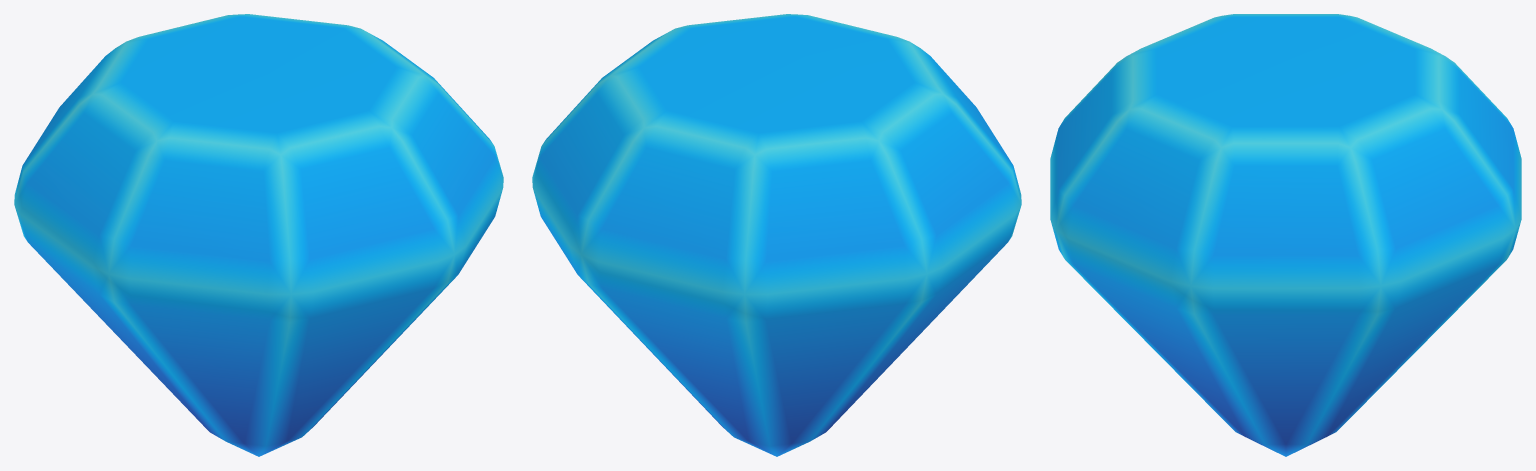
File: diamond_001.glb
The picture shows the model from 3 angles, left to right: view 1: azimuth 30°, elevation 25°; view 2: azimuth 150°, elevation 25°; view 3: azimuth 270°, elevation 25°; orthographic projection.
Parts seen in each view (by area): view 1: diamond_001; view 2: diamond_001; view 3: diamond_001.
Boxes of the visible parts, x1,y1,x2,y2 form: diamond_001: (14, 14, 503, 456); diamond_001: (532, 14, 1021, 456); diamond_001: (1050, 14, 1521, 456).
Size of the model in its own units: 1.27 by 1.15 by 1.27.
Materials: 1 (1 with a texture image).
